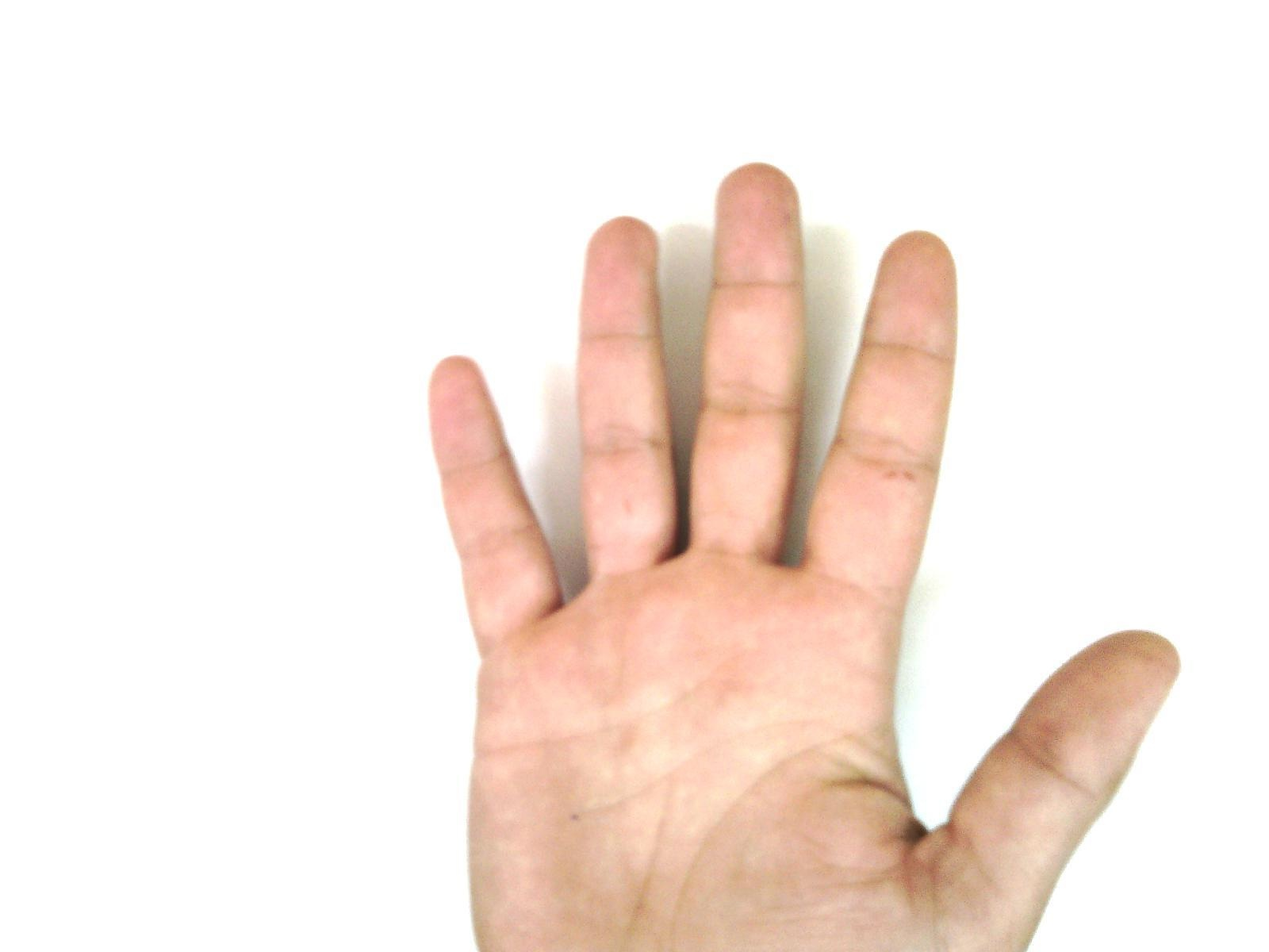open_palm: (424, 161, 1183, 951)
